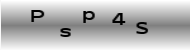4: (111, 12, 126, 26)
P: (29, 9, 46, 22)
S: (135, 20, 149, 35)
p: (81, 10, 96, 23)
s: (59, 27, 72, 38)
